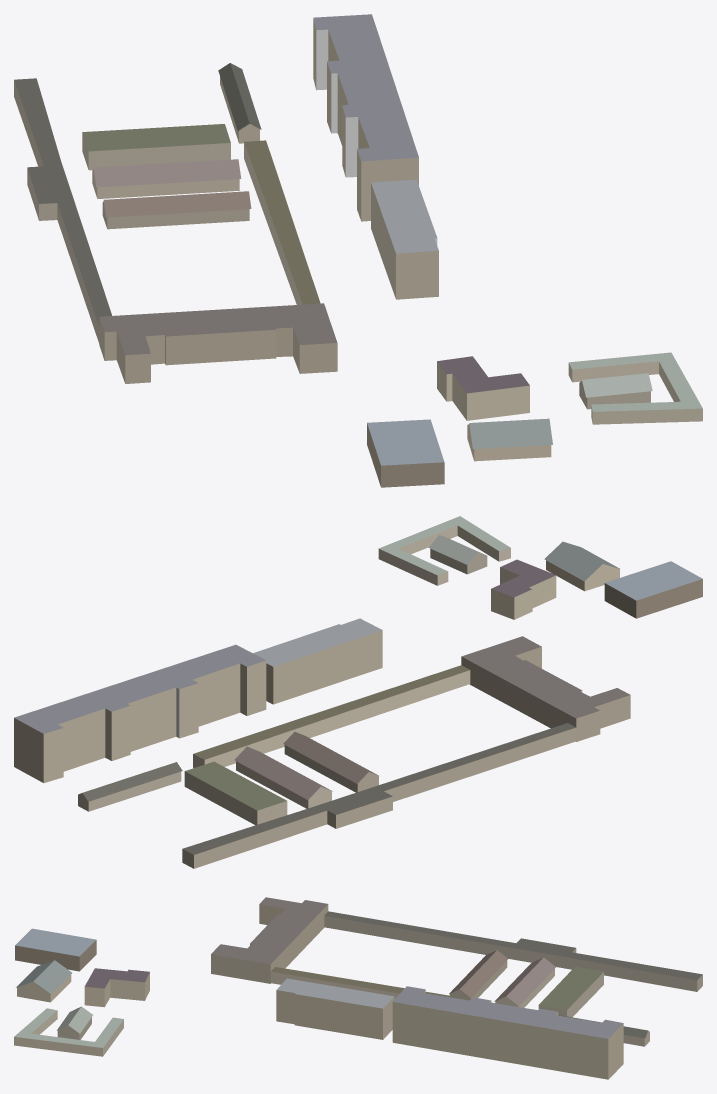
The picture shows the model from 3 angles, top to bottom: view 1: azimuth 30°, elevation 25°; view 2: azimuth 150°, elevation 25°; view 3: azimuth 270°, elevation 25°; orthographic projection. The views are drawn at different scales.
Parts seen in each view (by area): view 1: tuile; view 2: tuile; view 3: tuile.
Boxes of the visible parts, x1,y1,x2,y2 form: tuile: (14, 14, 702, 487); tuile: (14, 516, 702, 868); tuile: (14, 897, 702, 1079).
Size of the model in its own units: 136 by 16.56 by 238.
